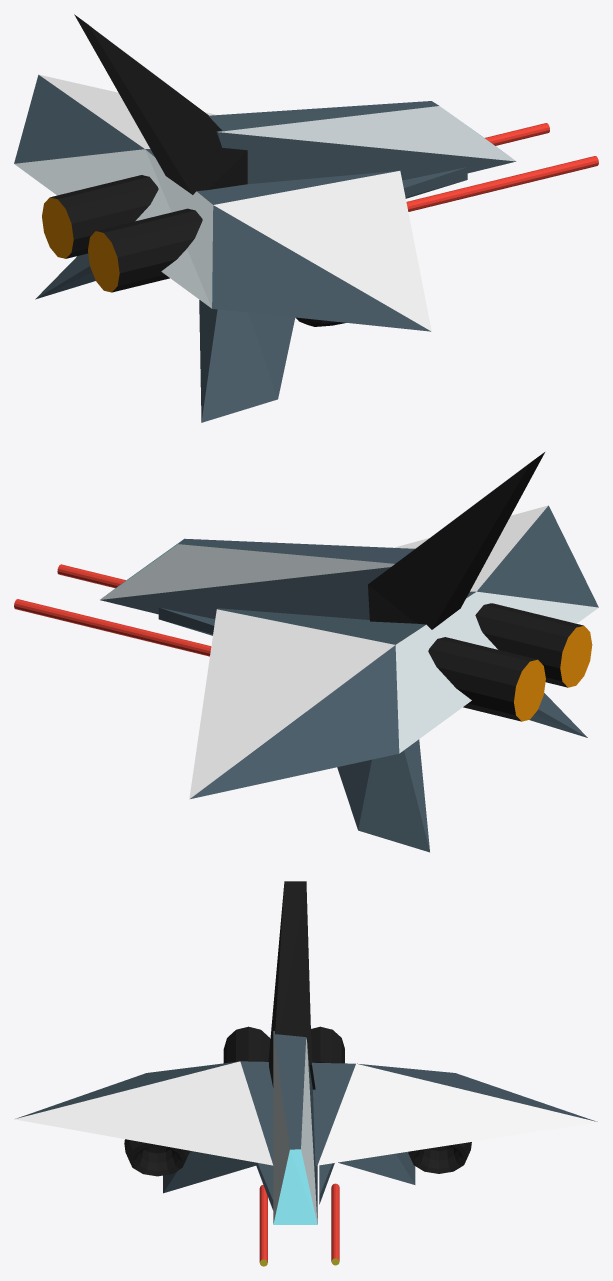
Rendered from scene_4dO747LTTO.glb.
3 views of the same model, one above another, from view 1: azimuth 30°, elevation 25°; view 2: azimuth 150°, elevation 25°; view 3: azimuth 270°, elevation 25° (orthographic). The views are drawn at different scales.
Parts seen in each view (by area): view 1: Node; view 2: Node; view 3: Node.
Part boxes in pixels (box(x1,y1,x2,y2)): Node: box(14, 14, 598, 422); Node: box(14, 452, 598, 852); Node: box(14, 881, 597, 1266).
Size of the model in its own units: 0.82 by 0.5462 by 1.06.
